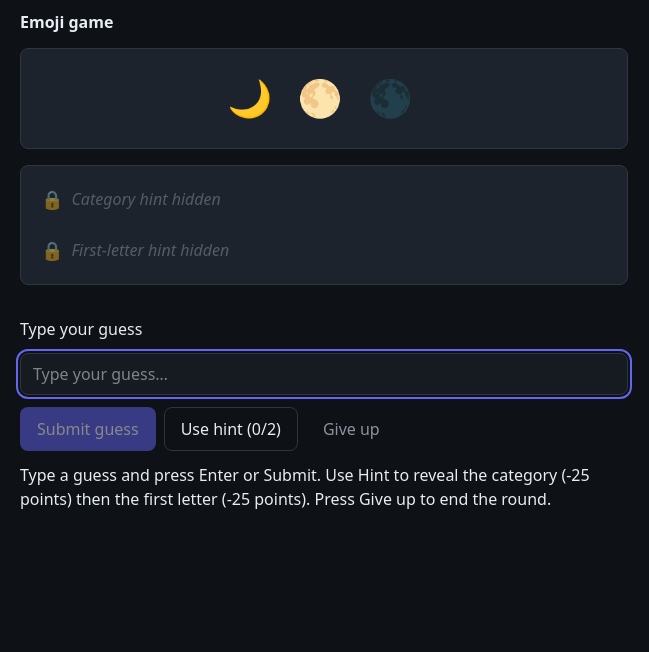
EmojiGame — give up › ends the round with score 0 and records given_up status
The width and height of the screenshot is (649, 652).
Click the button "Give up".
click(351, 429)  # box [306,407,397,451]
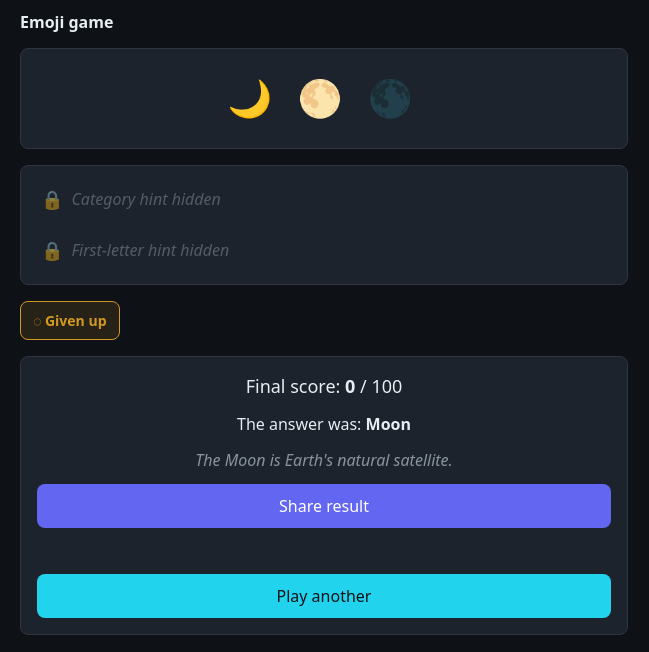
Now the text "Moon" is shown, box [366,413,411,435]
Now the text "0" is shown, box [345,374,355,398]
